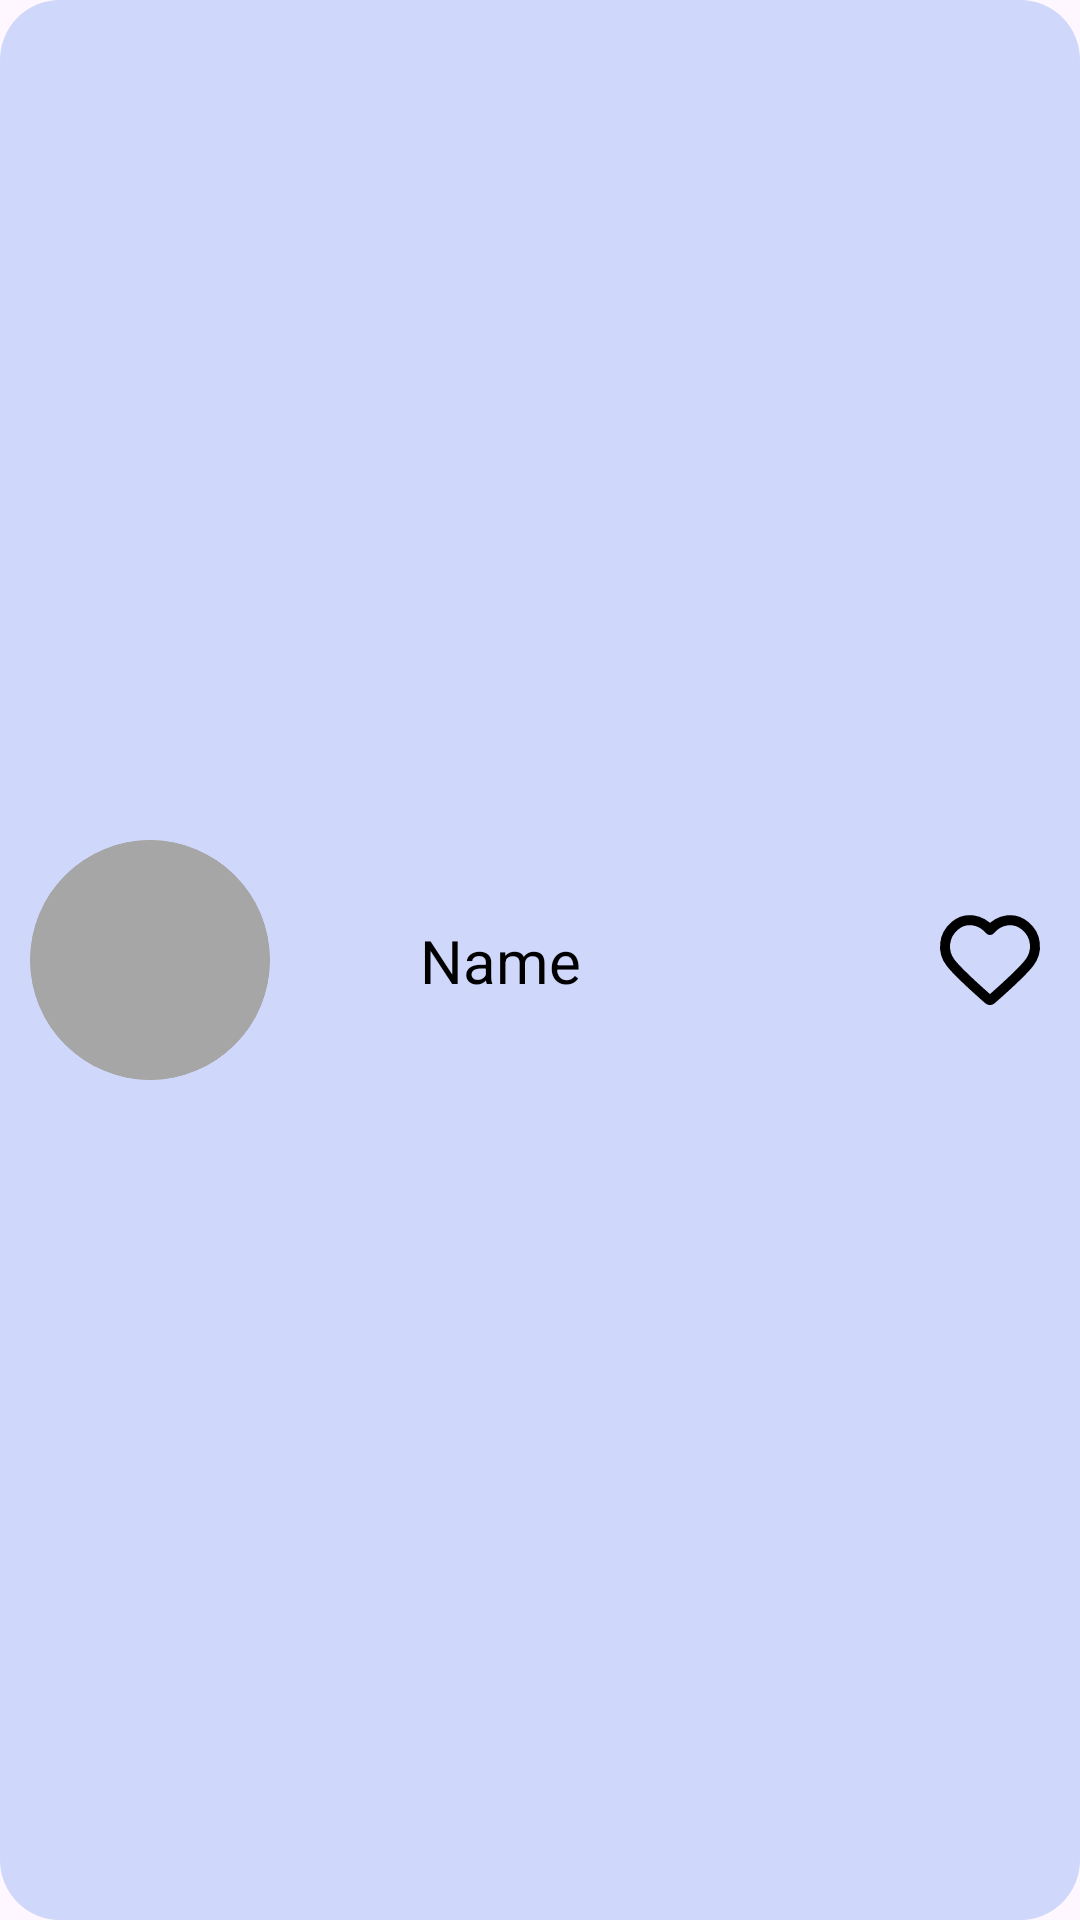

Named icons in this screenshot (1080 x 1920) and their bounding boxes, bbox(x1, y1, x2, y2):
heart: bbox(940, 915, 1040, 1005)
